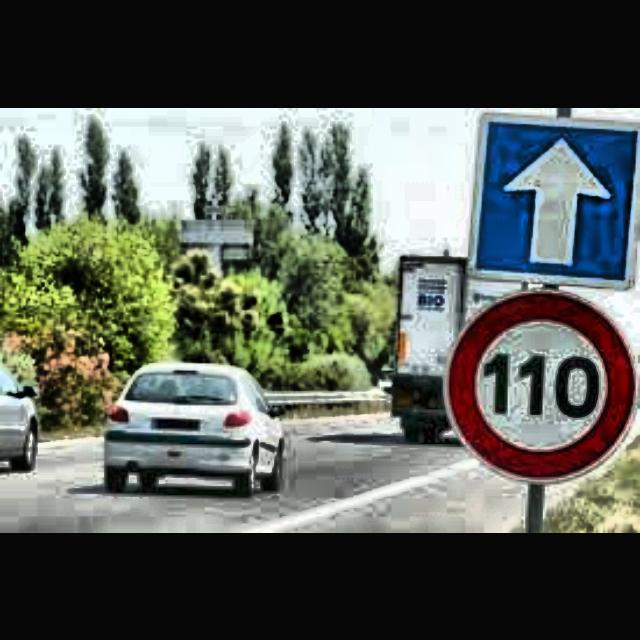speed_110: (442, 290, 640, 484)
